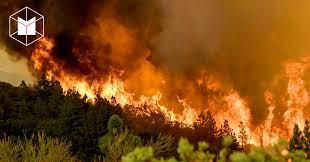fire: (54, 49, 296, 153)
